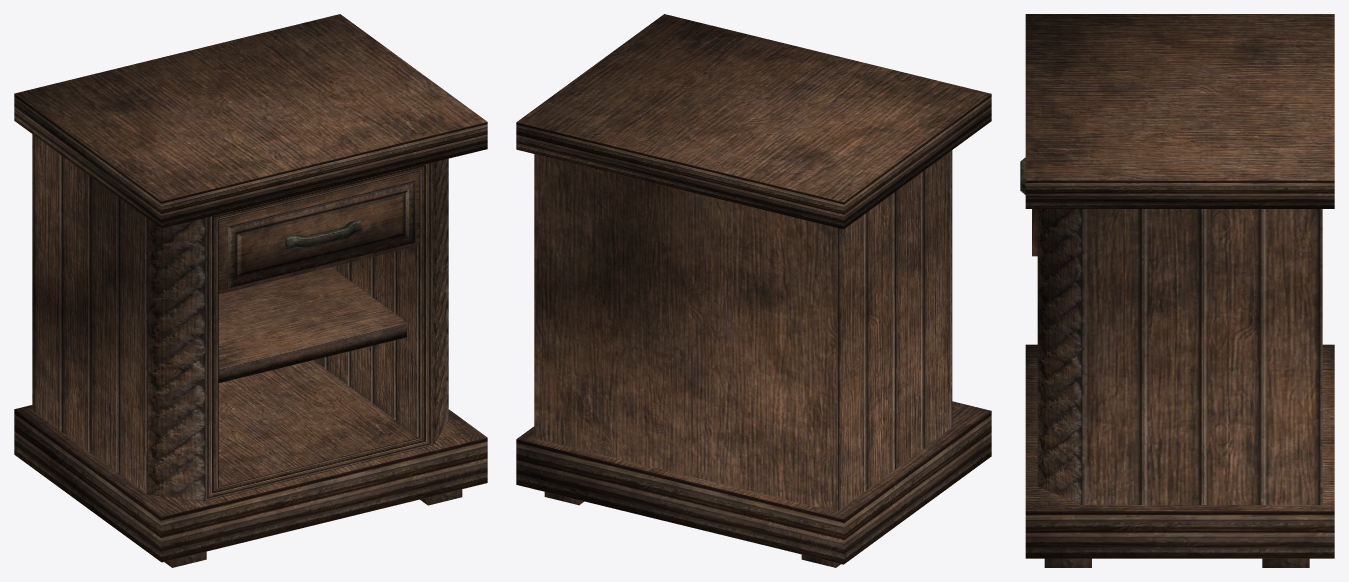
The model's file is GS_VOB_BEDCASE_ORANGE_02_KOZA.glb.
3 views of the same model, side by side, from view 1: azimuth 30°, elevation 25°; view 2: azimuth 150°, elevation 25°; view 3: azimuth 270°, elevation 25° (orthographic). The views are drawn at different scales.
Parts seen in each view (by area): view 1: Mesh; view 2: Mesh; view 3: Mesh.
Boxes of the visible parts, <box> form: Mesh: <box>14,14,487,567</box>; Mesh: <box>516,14,991,567</box>; Mesh: <box>1020,14,1334,567</box>.
Bounding box in the file's own units: 0.8159 × 0.9034 × 0.6504.
5 materials, 5 textured.
